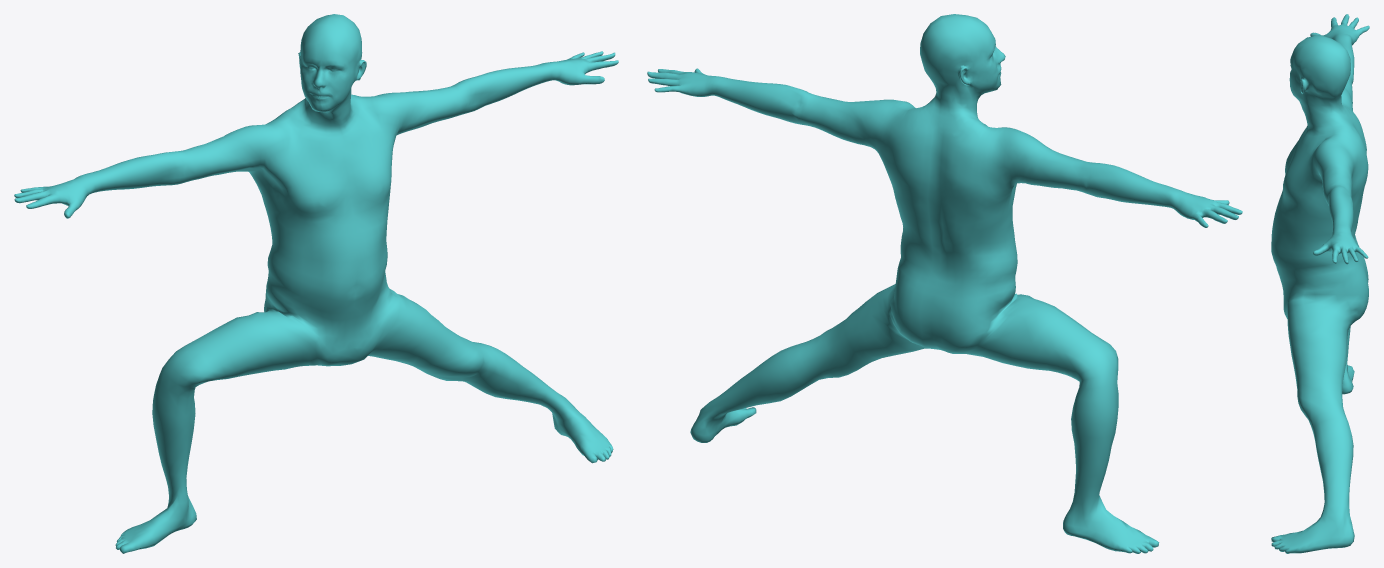
Rendered from warrior_2_pose_male.glb.
3 renders of one model, left to right at view 1: azimuth 30°, elevation 25°; view 2: azimuth 150°, elevation 25°; view 3: azimuth 270°, elevation 25°, orthographic. The views are drawn at different scales.
Visible parts, largest first — view 1: warrior_2_pose Reference; view 2: warrior_2_pose Reference; view 3: warrior_2_pose Reference.
Part boxes in pixels (box(x1,y1,x2,y2)): warrior_2_pose Reference: box(14, 14, 618, 553); warrior_2_pose Reference: box(647, 14, 1242, 553); warrior_2_pose Reference: box(1271, 14, 1369, 553).
Size of the model in its own units: 1.85 by 1.43 by 0.3103.
